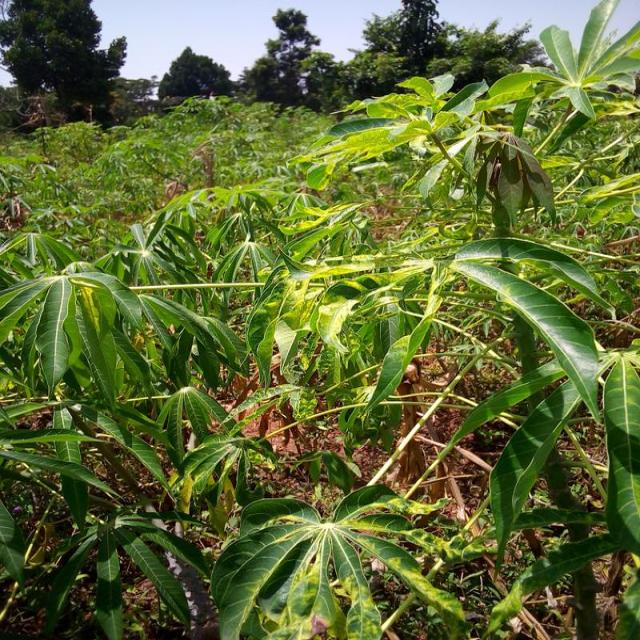cassava leaf: (210, 482, 468, 638)
